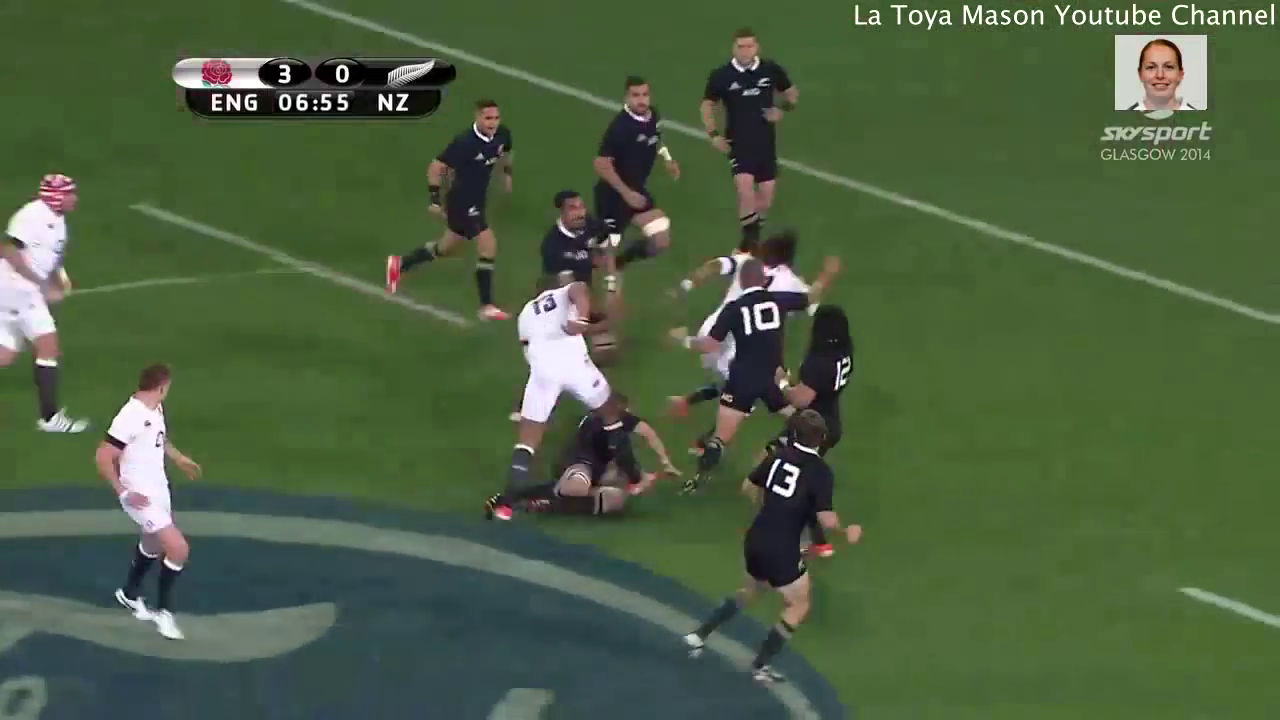player: (679, 405, 873, 702), (500, 267, 657, 522), (73, 364, 205, 656), (375, 76, 517, 324), (672, 256, 812, 504), (474, 381, 676, 524), (689, 21, 799, 251), (1, 165, 91, 441), (581, 65, 681, 277), (776, 282, 860, 491)
